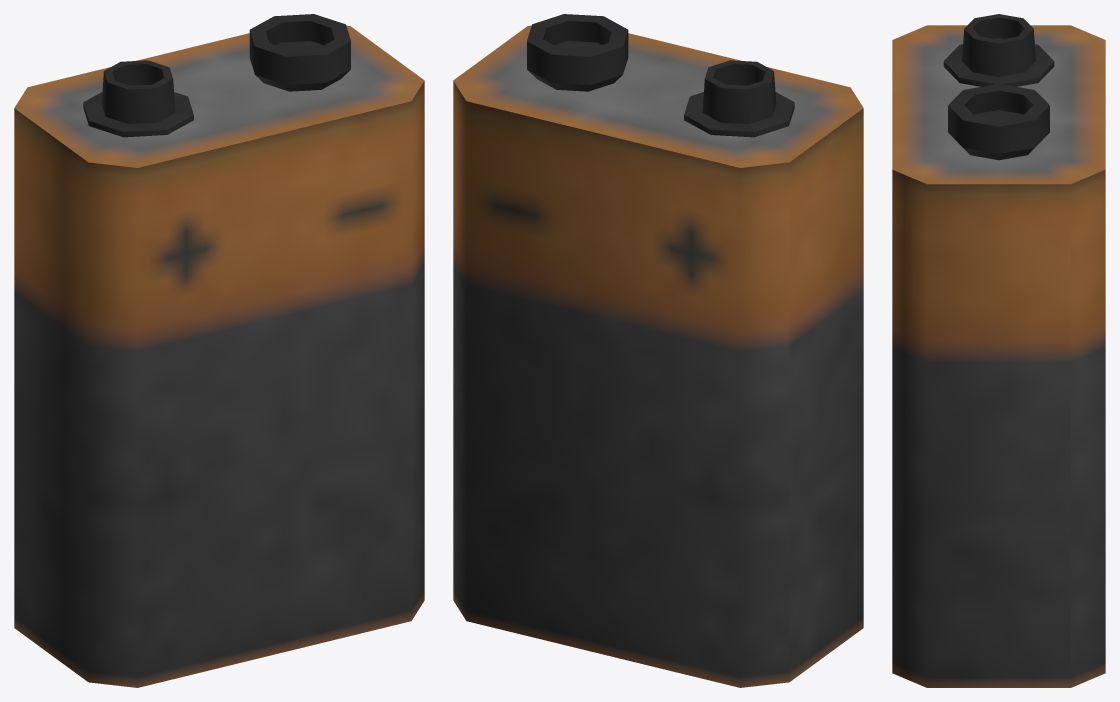
The model's file is battery_mp_3_2.obj.
3 views of the same model, side by side, from view 1: azimuth 30°, elevation 25°; view 2: azimuth 150°, elevation 25°; view 3: azimuth 270°, elevation 25° (orthographic). The views are drawn at different scales.
Parts seen in each view (by area): view 1: battery_mp_3_2; view 2: battery_mp_3_2; view 3: battery_mp_3_2.
Part boxes in pixels (x1=…): battery_mp_3_2: x1=14, y1=14, x2=424, y2=687; battery_mp_3_2: x1=453, y1=14, x2=863, y2=687; battery_mp_3_2: x1=892, y1=14, x2=1105, y2=687.
Bounding box in the file's own units: 0.0648 × 0.103 × 0.0368.
